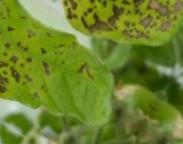Tomato leaf bacterial spot: (0, 11, 149, 144), (43, 0, 183, 89)
